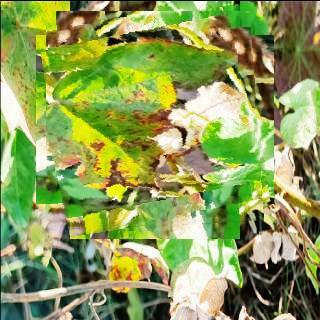blight: (46, 10, 264, 228)
